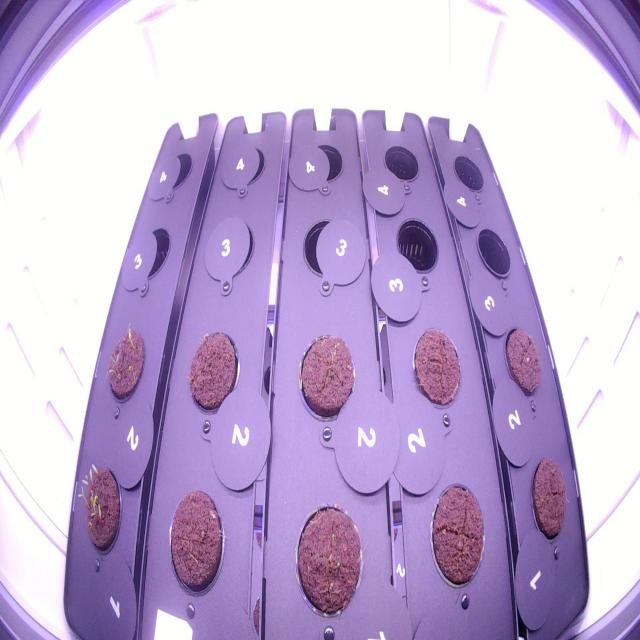empty_pod: (295, 206, 357, 293), (388, 209, 446, 285), (204, 215, 258, 286), (471, 218, 517, 289), (298, 138, 346, 198), (131, 220, 173, 288), (222, 137, 268, 196), (446, 144, 490, 202), (376, 137, 424, 190), (158, 142, 195, 204)
germination: (73, 456, 128, 562), (98, 309, 154, 413)
pod: (287, 494, 369, 625), (424, 473, 489, 601), (163, 484, 229, 606), (293, 324, 360, 431), (183, 322, 244, 424), (408, 318, 466, 415), (524, 448, 573, 549), (498, 319, 546, 405)
